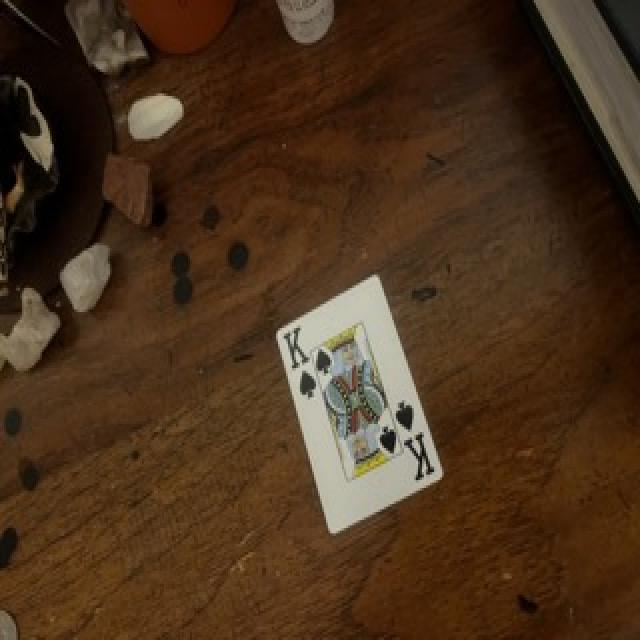King of spades: (278, 277, 442, 533)
